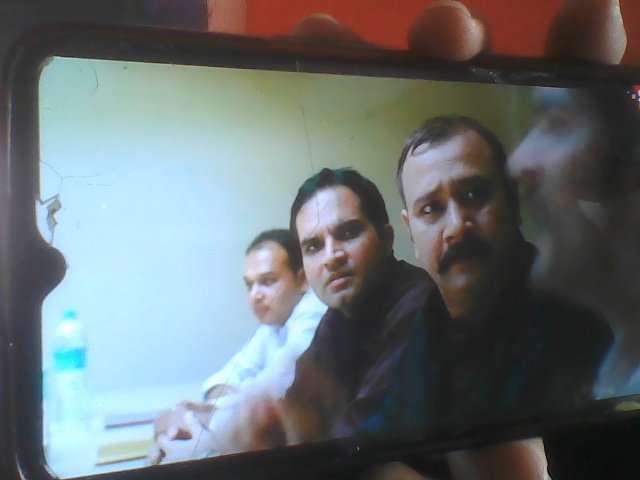fake: (392, 94, 543, 308), (294, 148, 409, 311)
